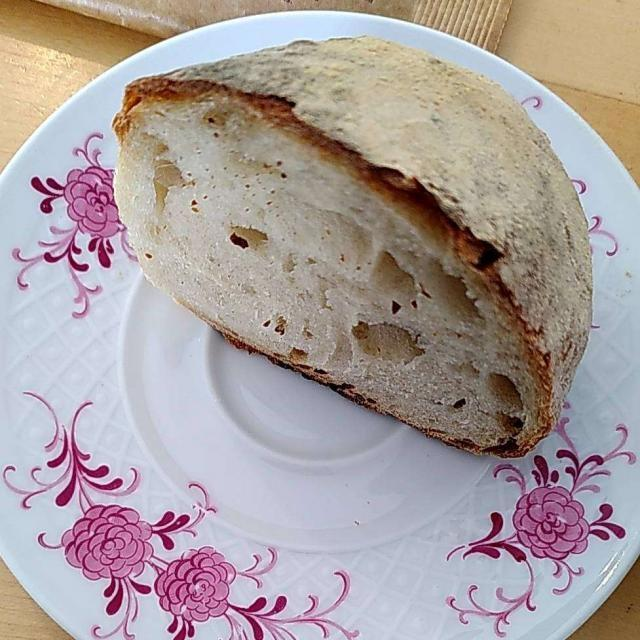bread: (118, 46, 572, 446)
